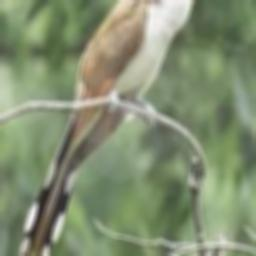Cuckoo: (19, 0, 215, 256)
